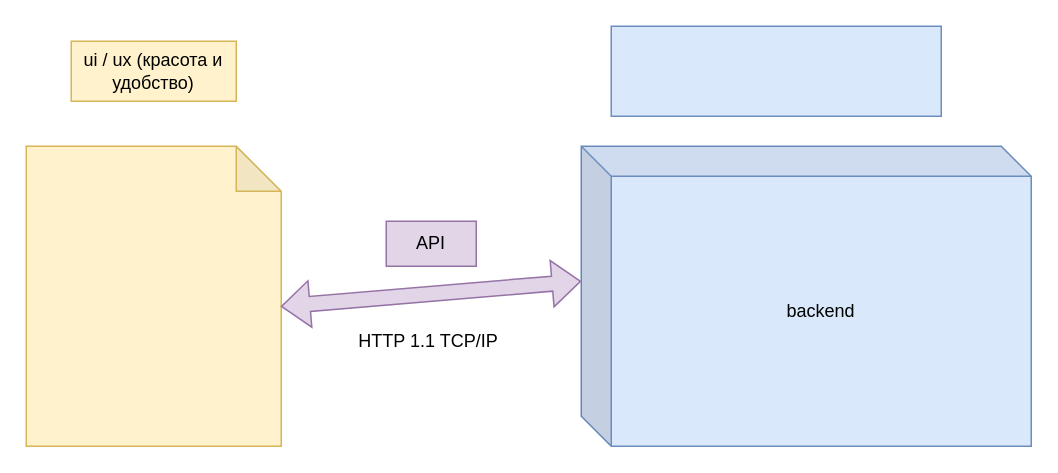
Image size: 1058x473. Some labels were removed from this diagram. The centre of each missing label's shape, as x and y in pixels:
crud (производительность, безопасность, консистентность): the point at 775,70
frontend: the point at 153,295
